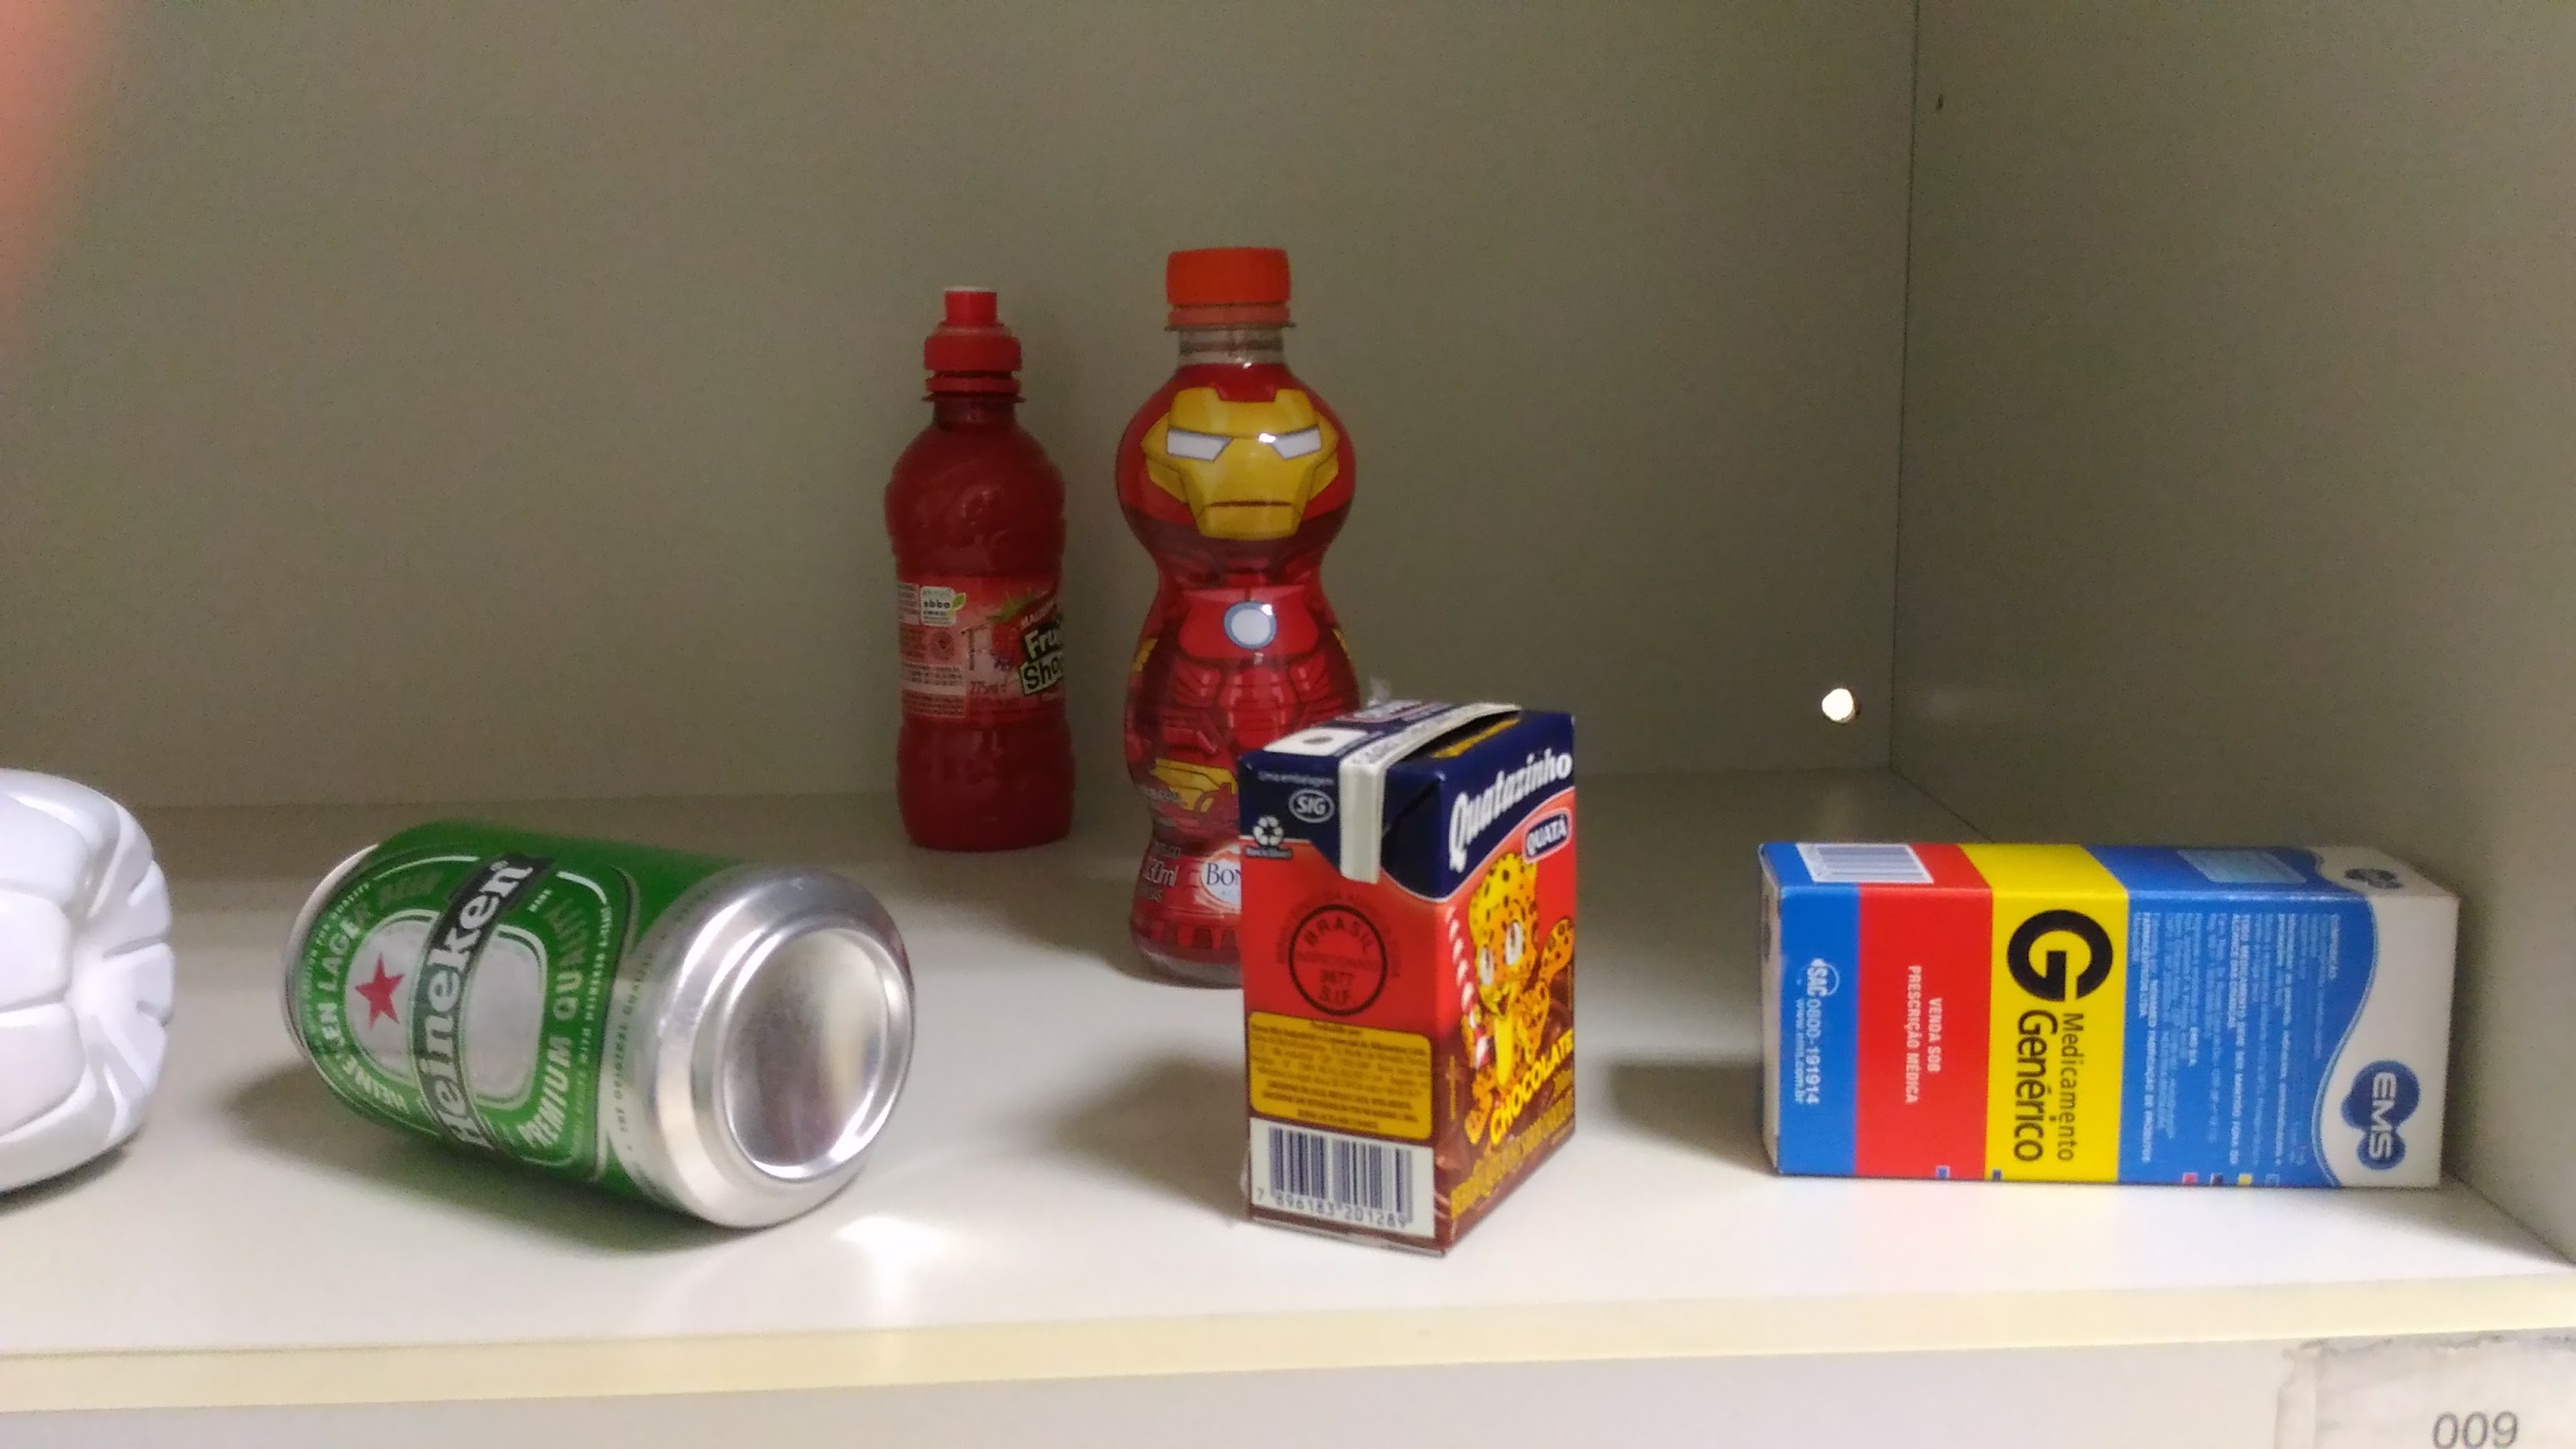chocolate_milk: (1231, 689, 1601, 1267)
heineken: (273, 816, 919, 1245)
iron_man: (1107, 238, 1372, 714)
medicine: (1747, 827, 2477, 1200)
red_juice: (876, 275, 1091, 864)
